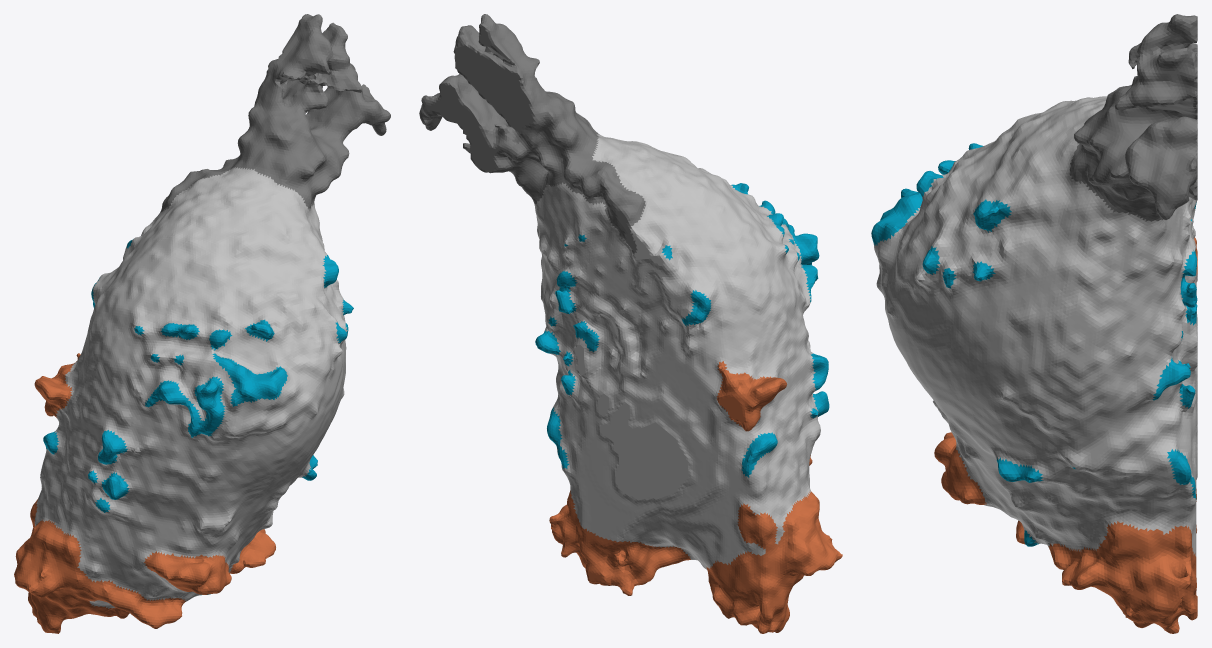
The picture shows the model from 3 angles, left to right: view 1: azimuth 30°, elevation 25°; view 2: azimuth 150°, elevation 25°; view 3: azimuth 270°, elevation 25°; orthographic projection. The views are drawn at different scales.
Size of the model in its own units: 132 by 179 by 75.87.
